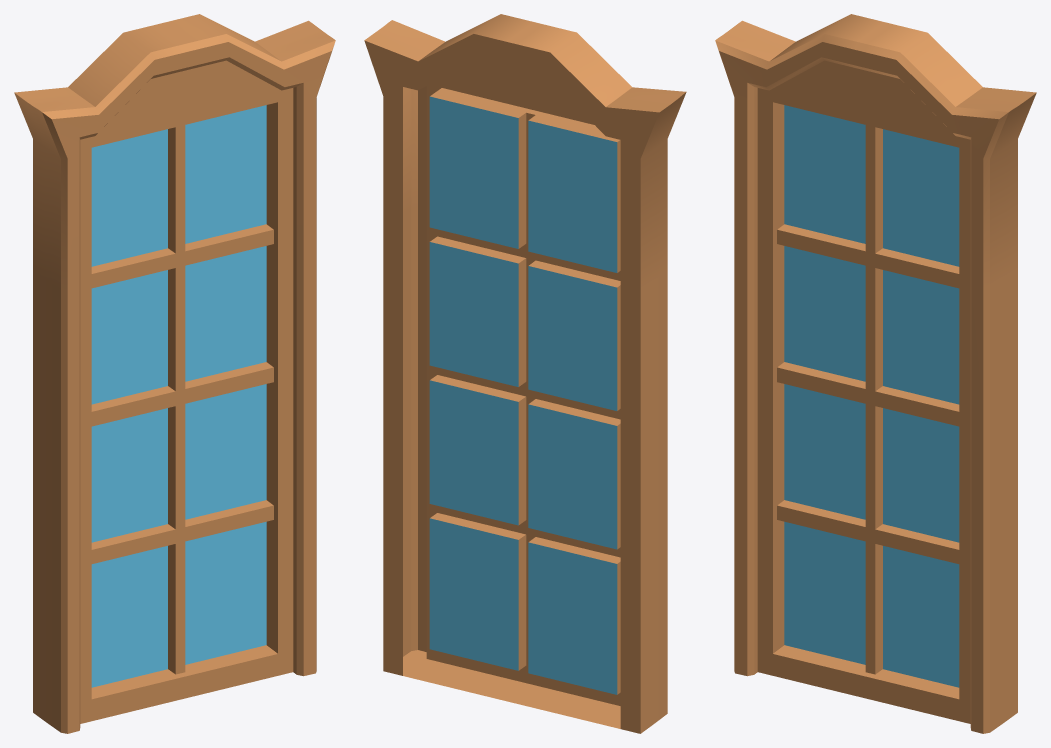
The model's file is Window8CatEars.fbx.
3 views of the same model, side by side, from view 1: azimuth 30°, elevation 25°; view 2: azimuth 150°, elevation 25°; view 3: azimuth 330°, elevation 25° (orthographic).
Visible parts, largest first — view 1: Window8CatEars; view 2: Window8CatEars; view 3: Window8CatEars.
Part boxes in pixels (box(x1,y1,x2,y2)): Window8CatEars: box(14, 14, 335, 733); Window8CatEars: box(364, 14, 686, 733); Window8CatEars: box(715, 14, 1036, 733).
Size of the model in its own units: 1.12 by 0.1999 by 2.39.
